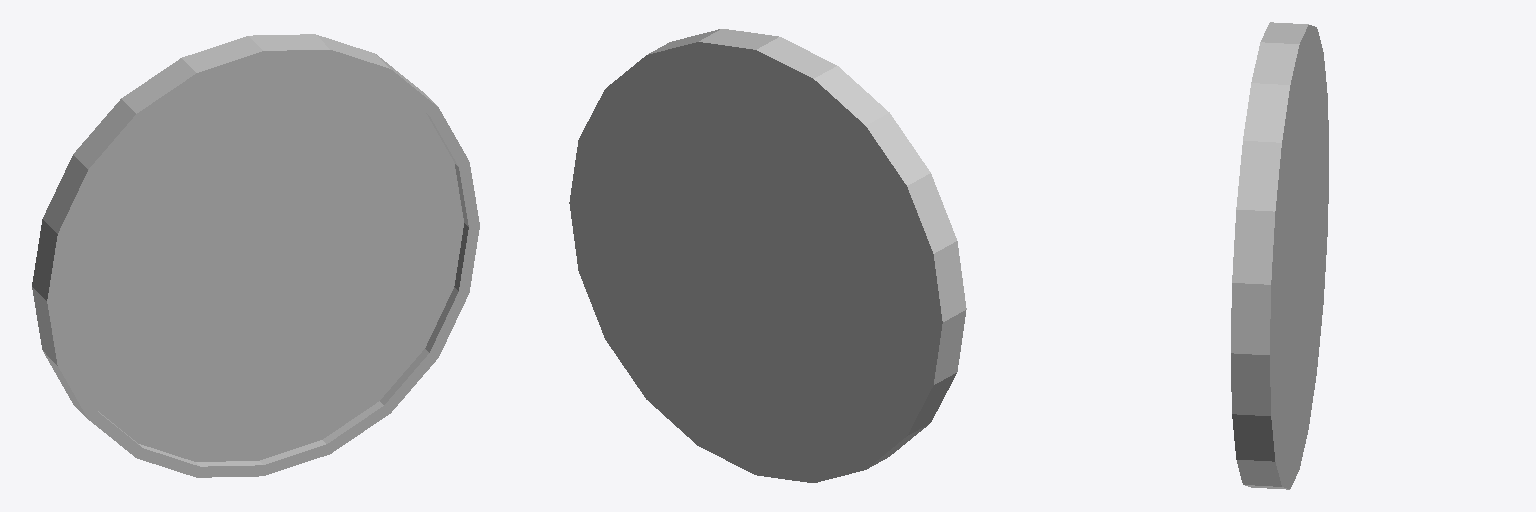
File: coin 7.obj
The picture shows the model from 3 angles: view 1: azimuth 30°, elevation 25°; view 2: azimuth 150°, elevation 25°; view 3: azimuth 270°, elevation 25°; orthographic projection.
Parts seen in each view (by area): view 1: pCylinder1; view 2: pCylinder1; view 3: pCylinder1.
Part boxes in pixels (bbox=[...]): pCylinder1: bbox=[32, 34, 479, 477]; pCylinder1: bbox=[569, 29, 966, 482]; pCylinder1: bbox=[1231, 22, 1328, 489].
Bounding box in the file's own units: 2.01 × 2 × 0.4213.